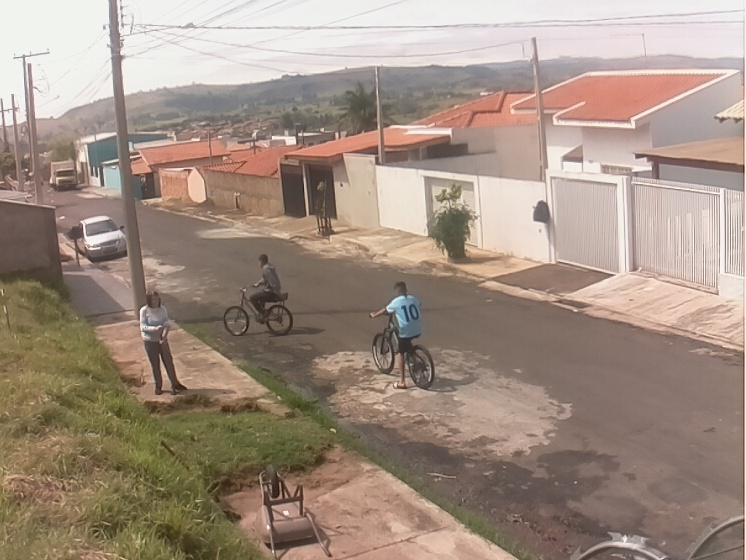person: (369, 281, 423, 389), (139, 290, 187, 395), (249, 253, 283, 321)
